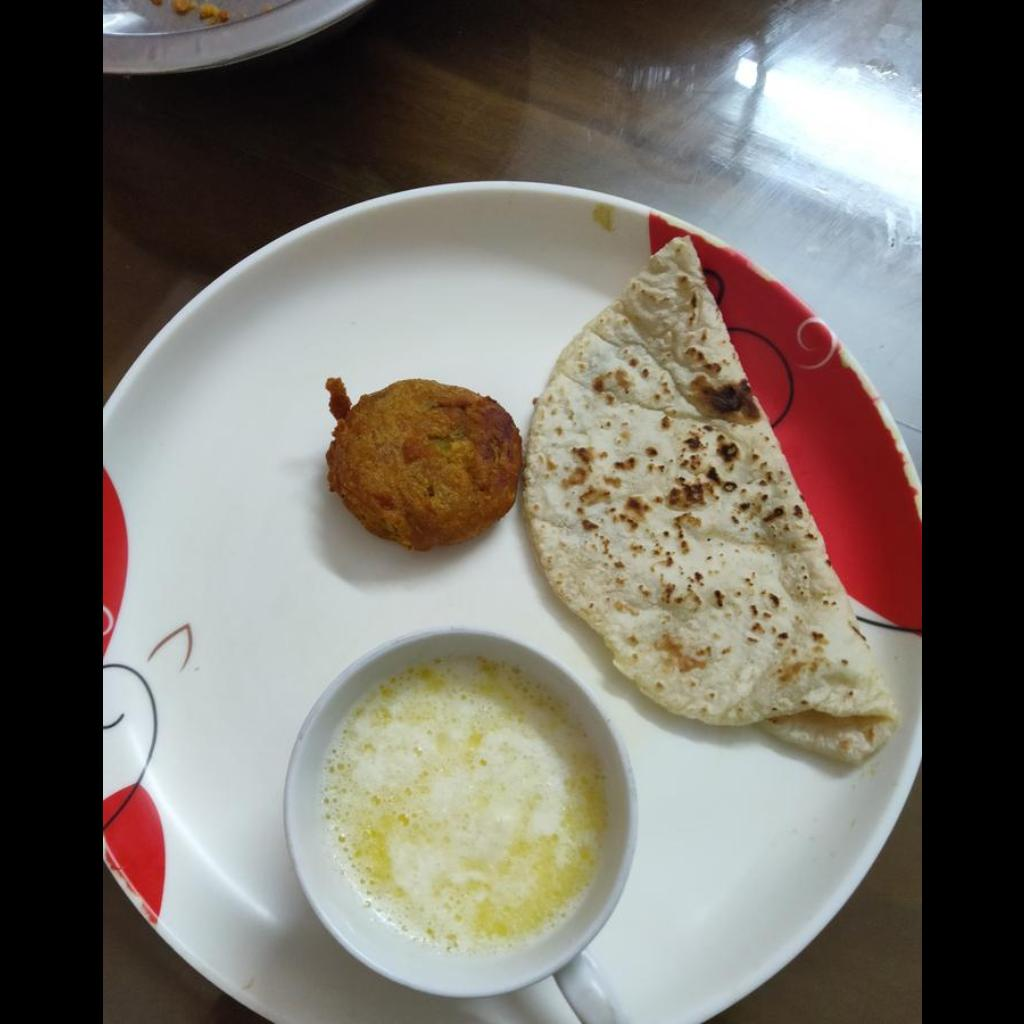chop-alu: (328, 377, 520, 549)
milk: (319, 666, 598, 953)
ruti: (523, 236, 901, 769)
